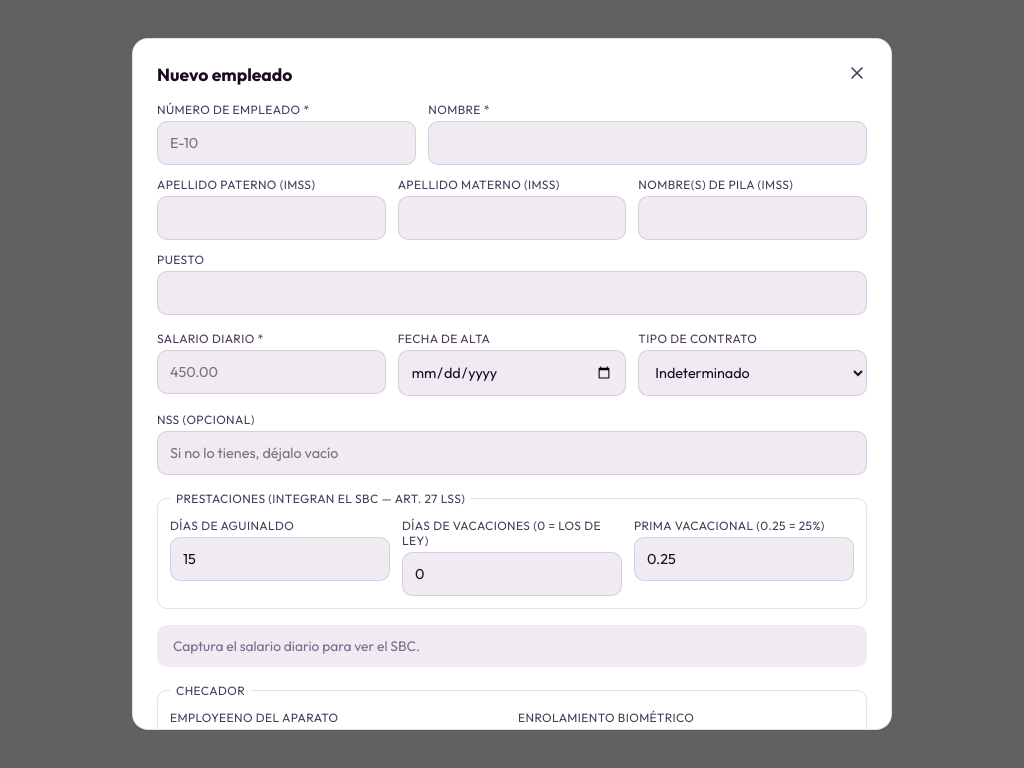
it: ModalEmpleado · el número del checador no se puede repetir › dejarlo vacío no cuenta como repetido
Type "N-01" into the field labelled "Número de empleado *" at (287, 143), box [157, 121, 416, 165]
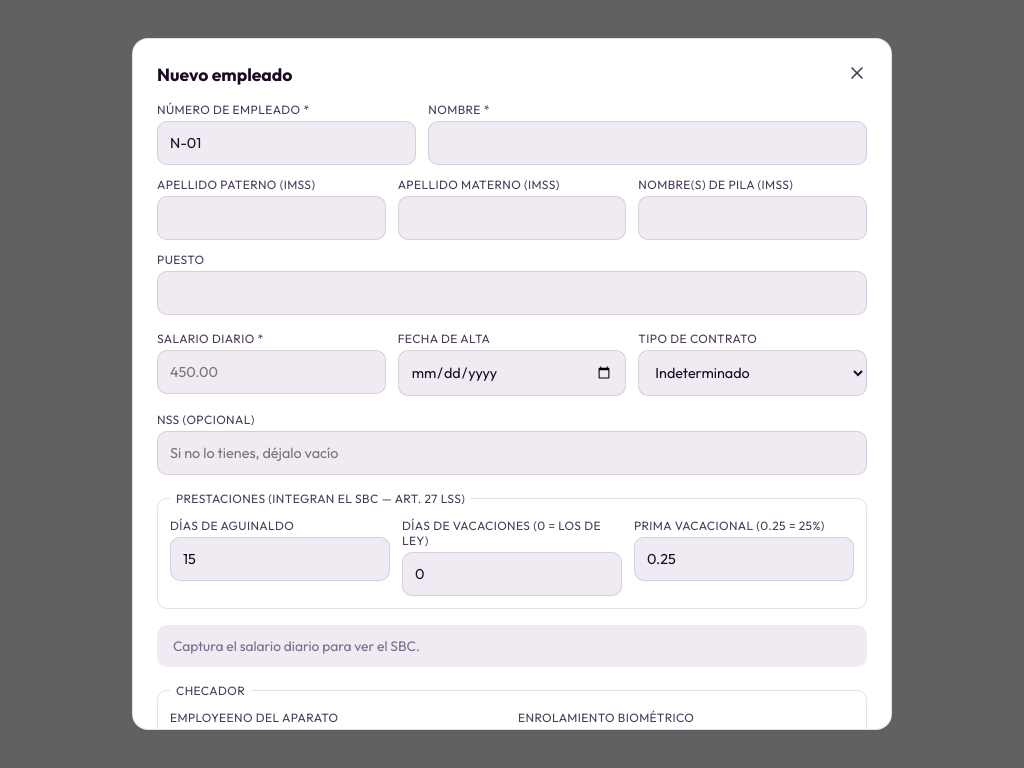
Type "PERSONA NUEVA" into the field labelled "Nombre *" at (648, 143), box [428, 121, 867, 165]
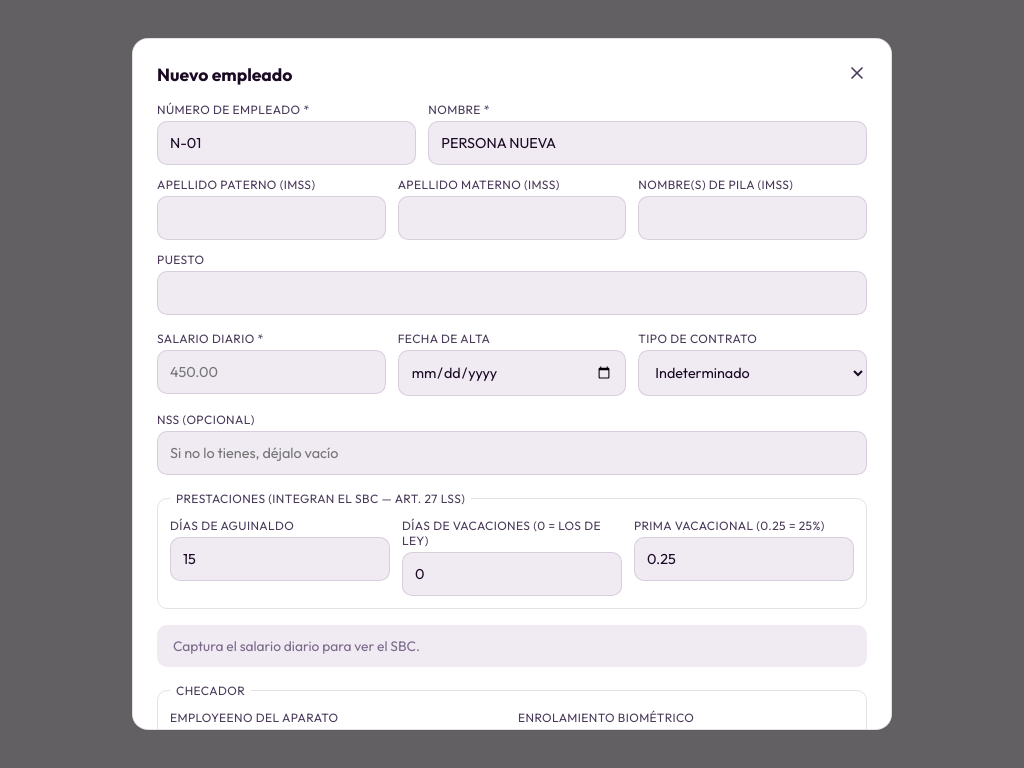
Type "500.00" into the field labelled "Salario diario *" at (271, 372), box [157, 350, 386, 394]
(page scrolled)
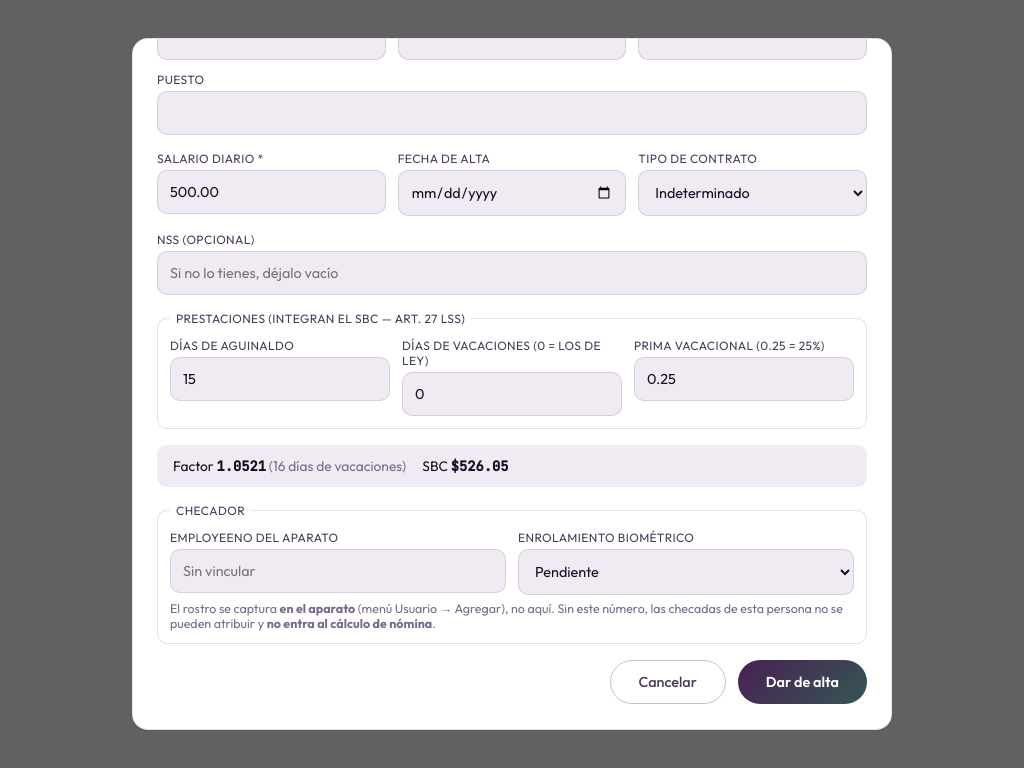
Check: the text "$526.05" is shown, box [451, 457, 509, 475]
Check: the button "Dar de alta" is enabled, box [738, 660, 867, 704]
